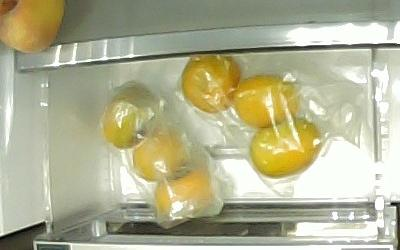persimmon_vinyl: (249, 116, 322, 177), (102, 83, 160, 149), (230, 73, 299, 128), (179, 54, 241, 113), (152, 163, 215, 216), (132, 124, 188, 182)
